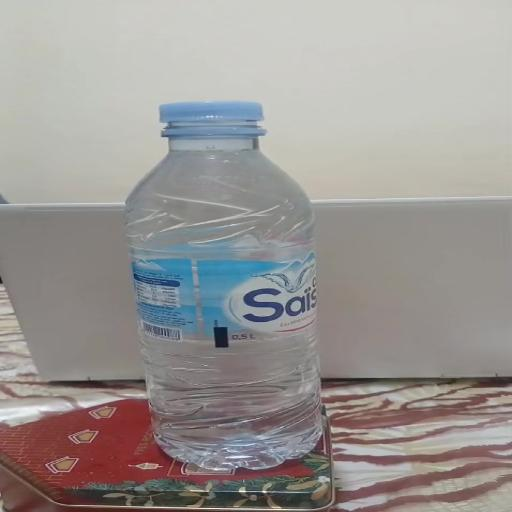bouteille non conformite: (120, 88, 310, 466), (150, 97, 288, 156)
